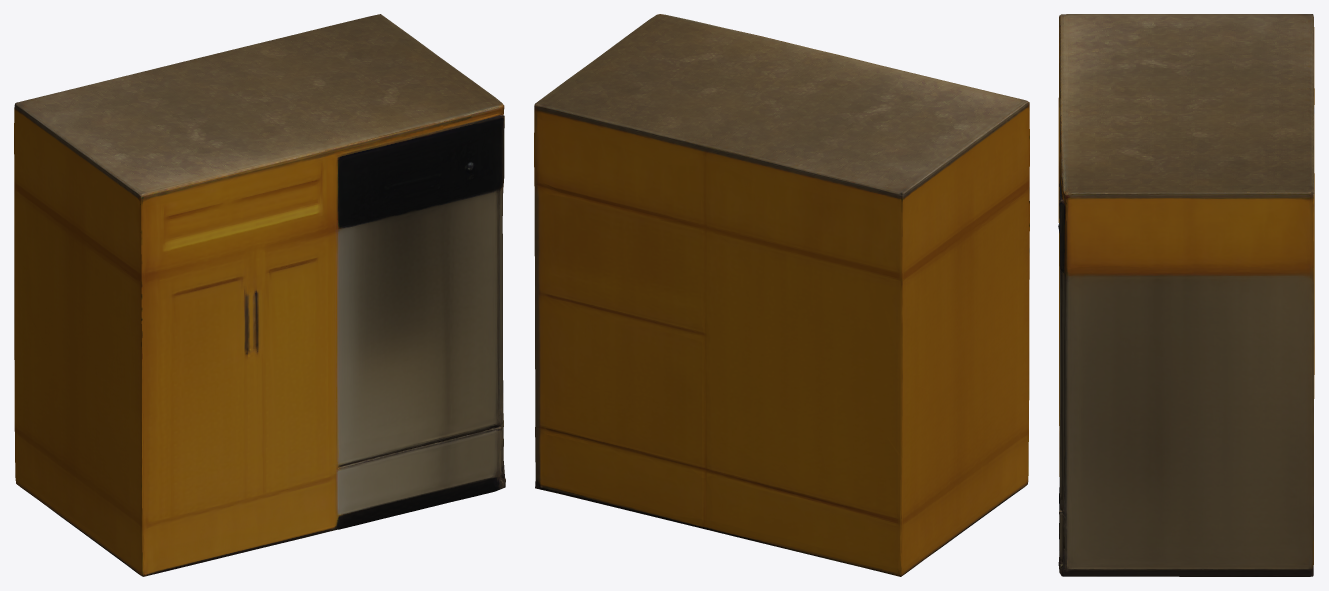
3 views of the same model, side by side, from view 1: azimuth 30°, elevation 25°; view 2: azimuth 150°, elevation 25°; view 3: azimuth 270°, elevation 25° (orthographic).
Parts seen in each view (by area): view 1: world; view 2: world; view 3: world.
Boxes of the visible parts, left/top/right/bottom form: world: left=14, top=14, right=505, bottom=576; world: left=534, top=14, right=1029, bottom=576; world: left=1058, top=14, right=1314, bottom=576.
Size of the model in its own units: 0.4925 by 0.4914 by 0.2965.
1 material, 1 textured.
